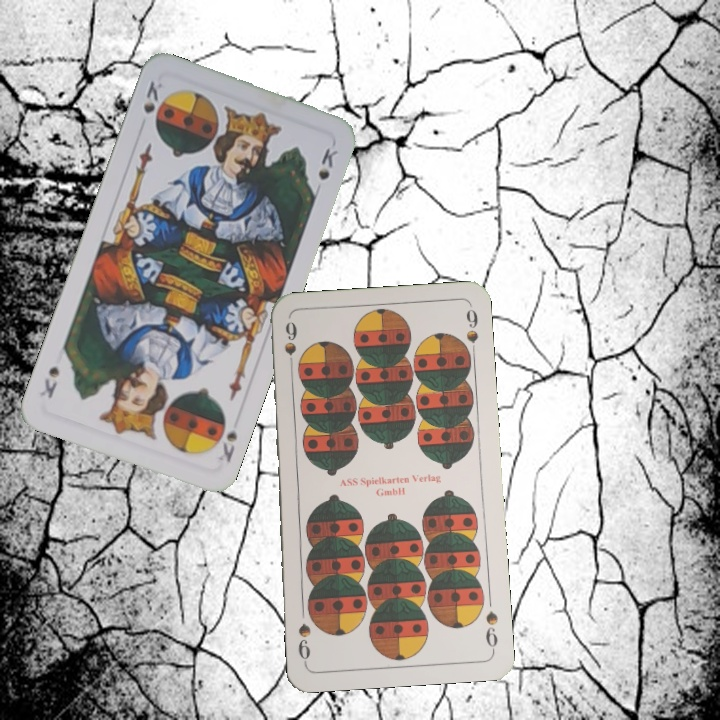S9: (280, 317, 299, 377), (481, 607, 501, 654)
SK: (139, 76, 166, 116), (214, 427, 240, 465)
